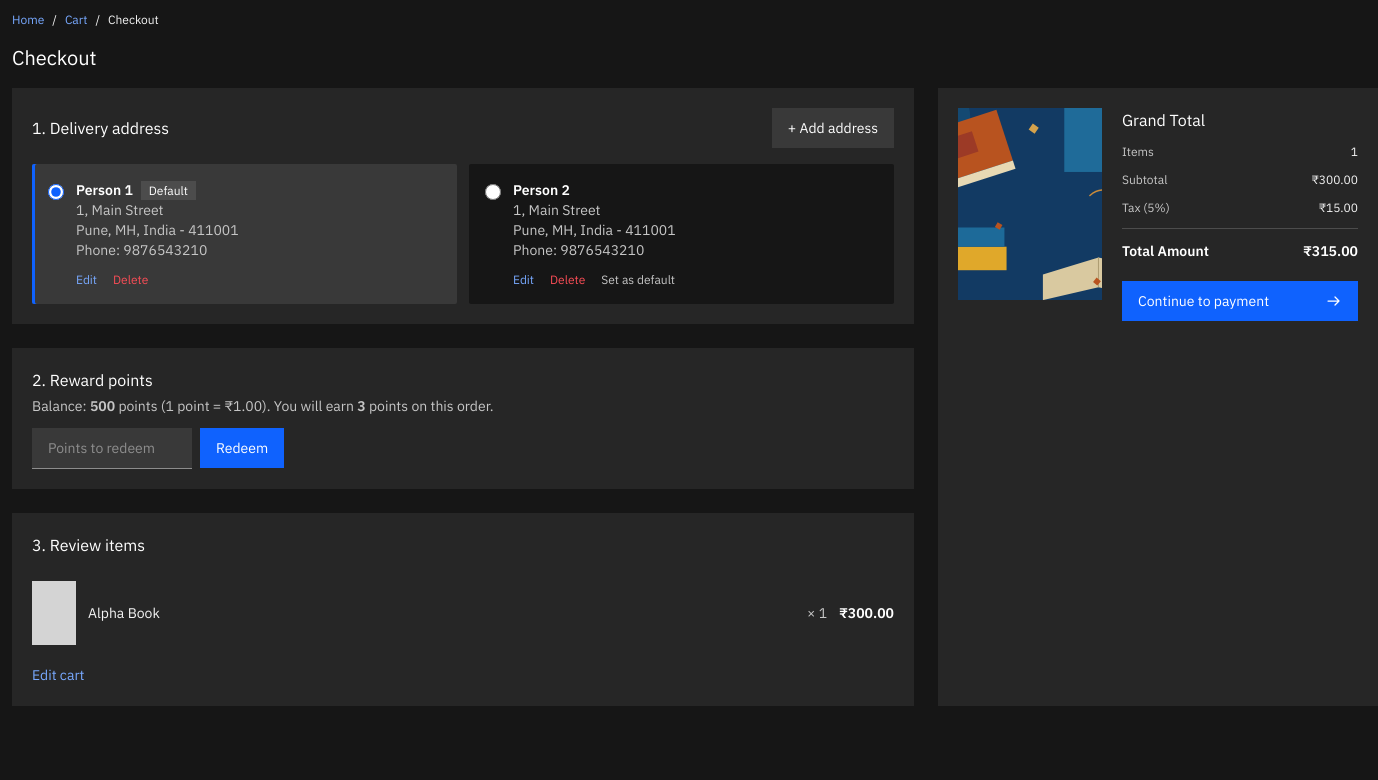
Scenario: CheckoutPage › redeems reward points and updates the total
Expected: the text "Person 1" is shown, left=76, top=181, right=133, bottom=199
Type "100" into the number field labelled "Points to redeem" at x=112, y=448, box left=32, top=428, right=192, bottom=469
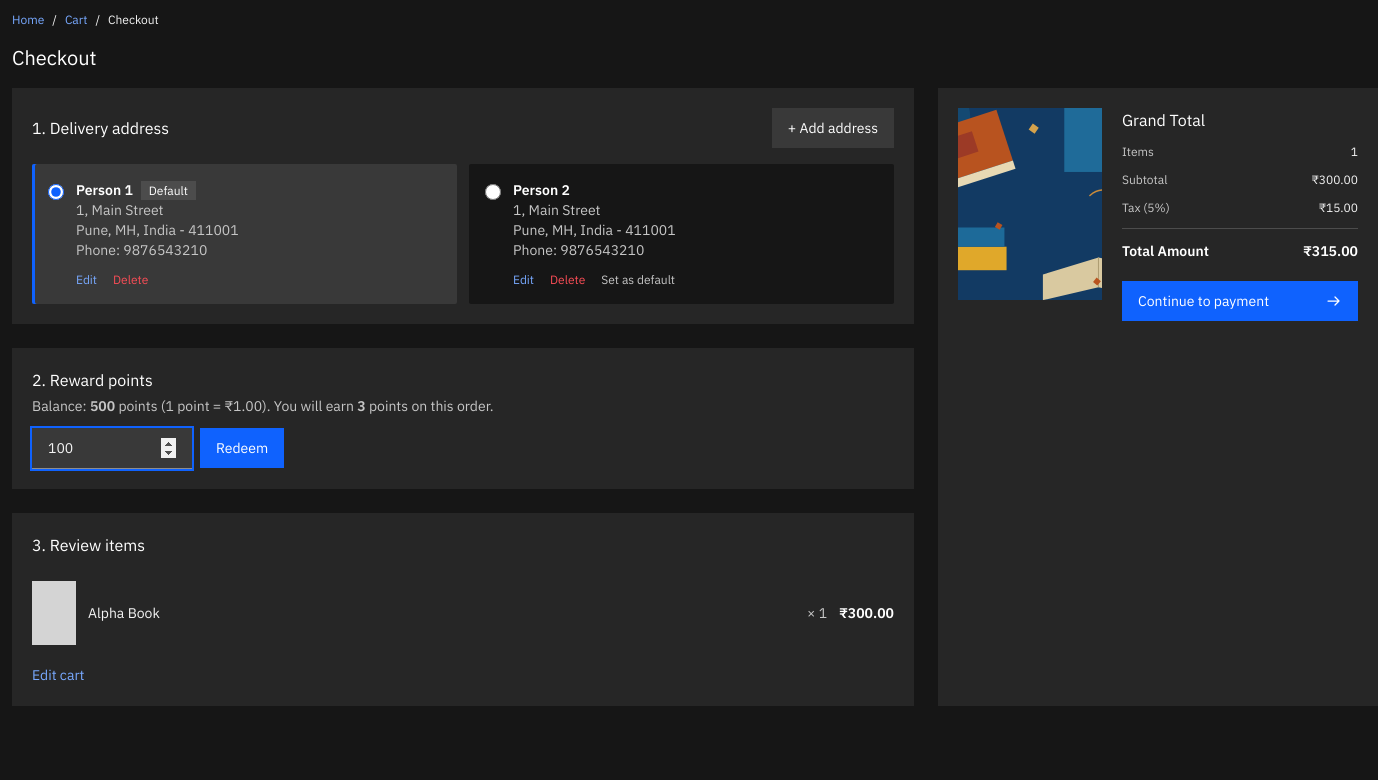
Click the button "Redeem" at x=242, y=448, box left=200, top=428, right=284, bottom=468
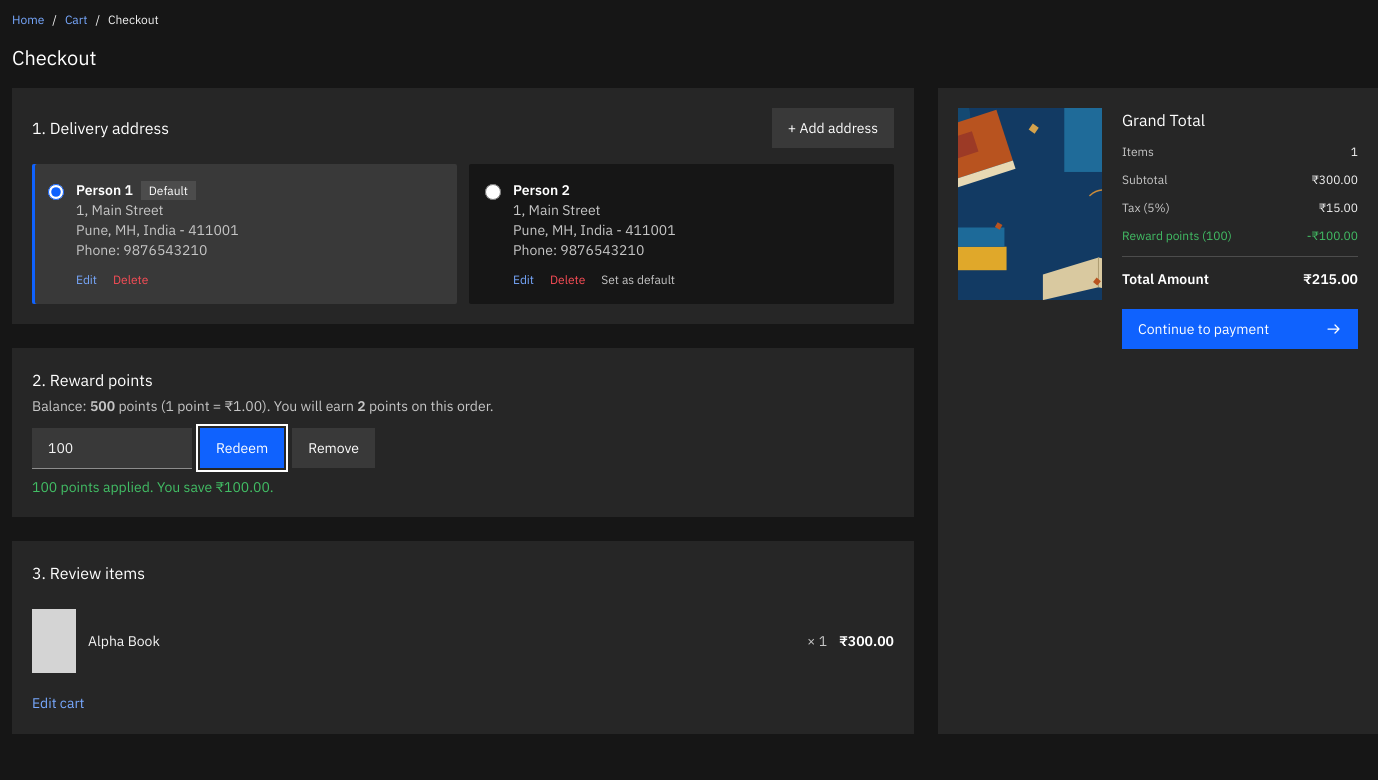
Expected: the message shows "100 points applied", left=32, top=478, right=274, bottom=496
Expected: the text with test id "summary-total" shows "215.00", left=1303, top=270, right=1358, bottom=288
